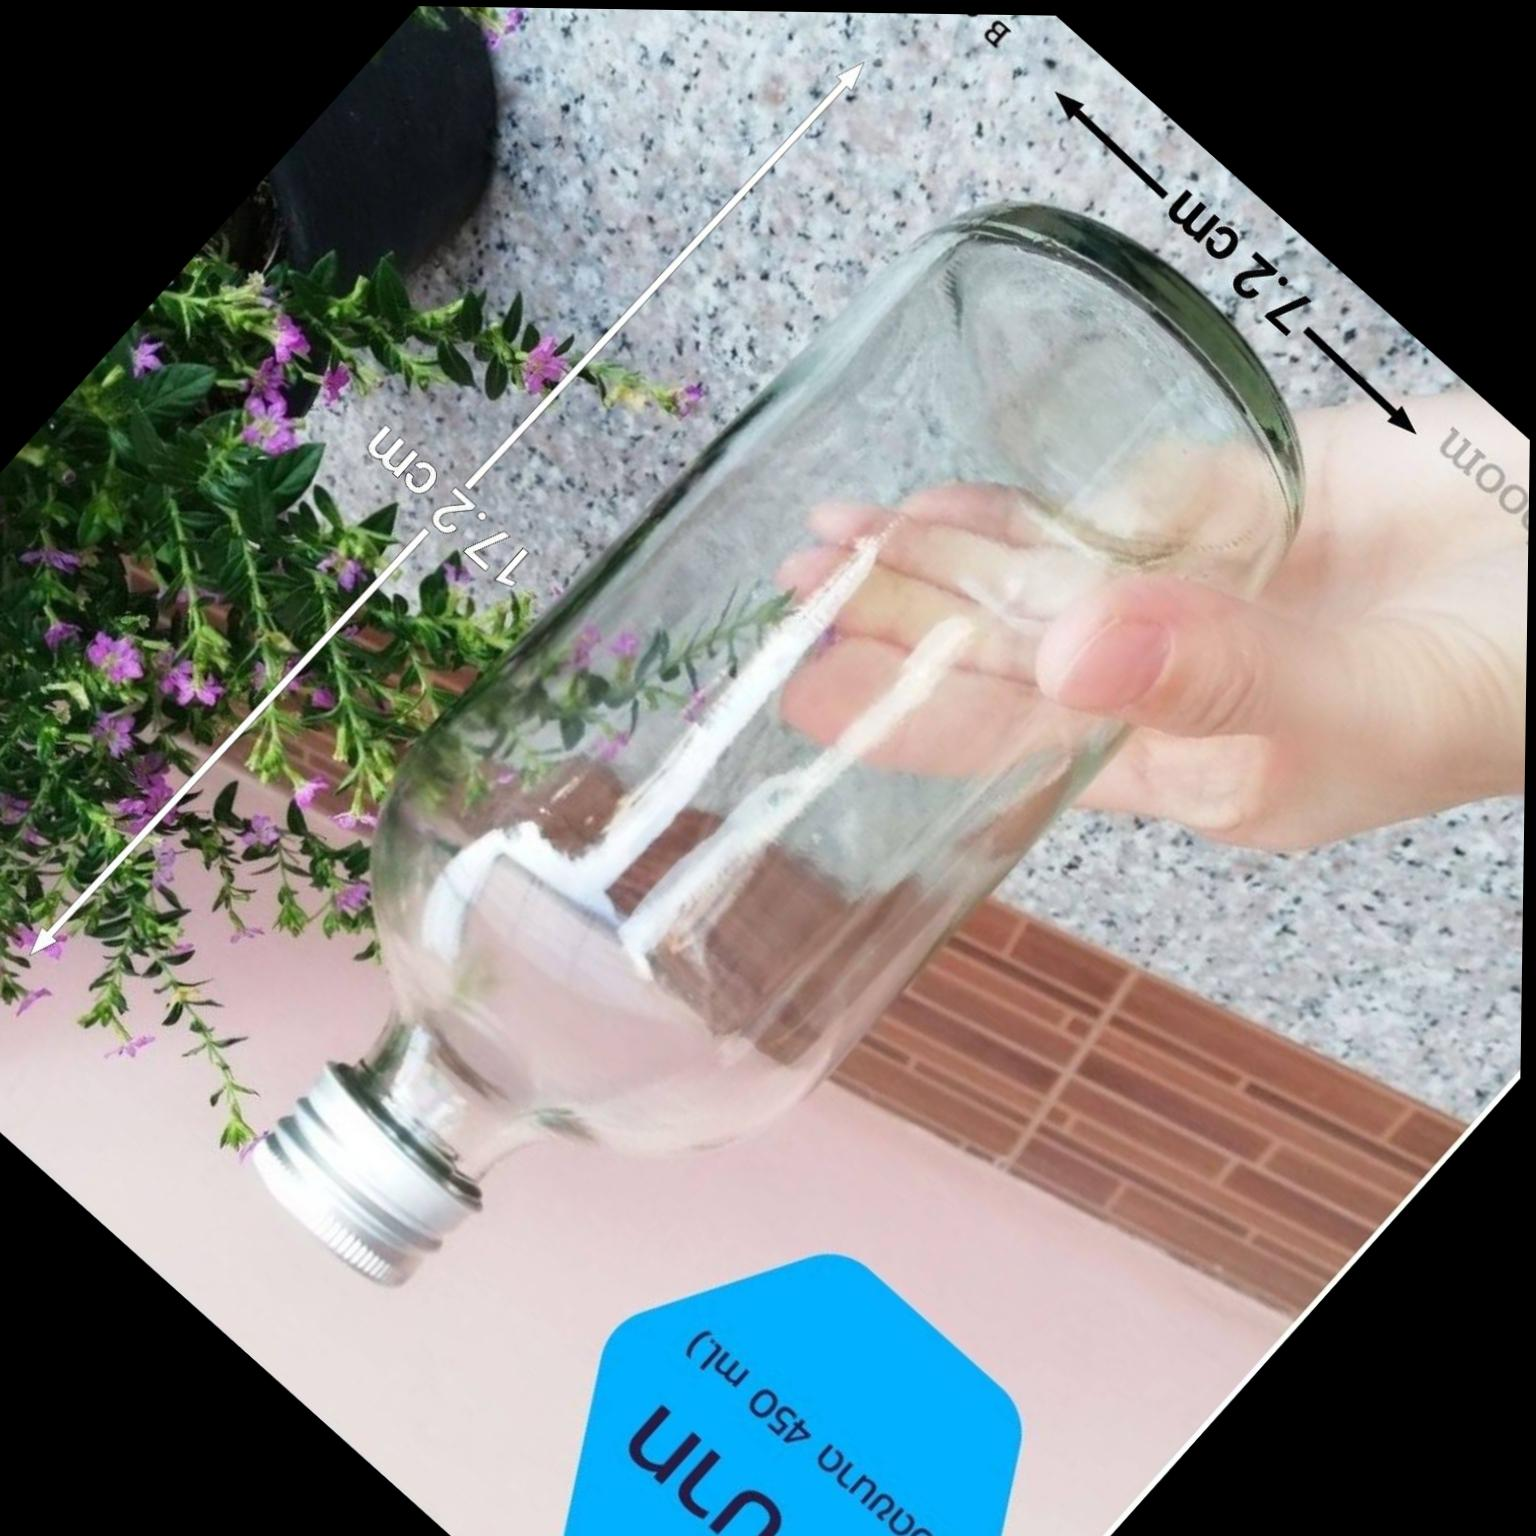glass: (252, 205, 1523, 1318)
